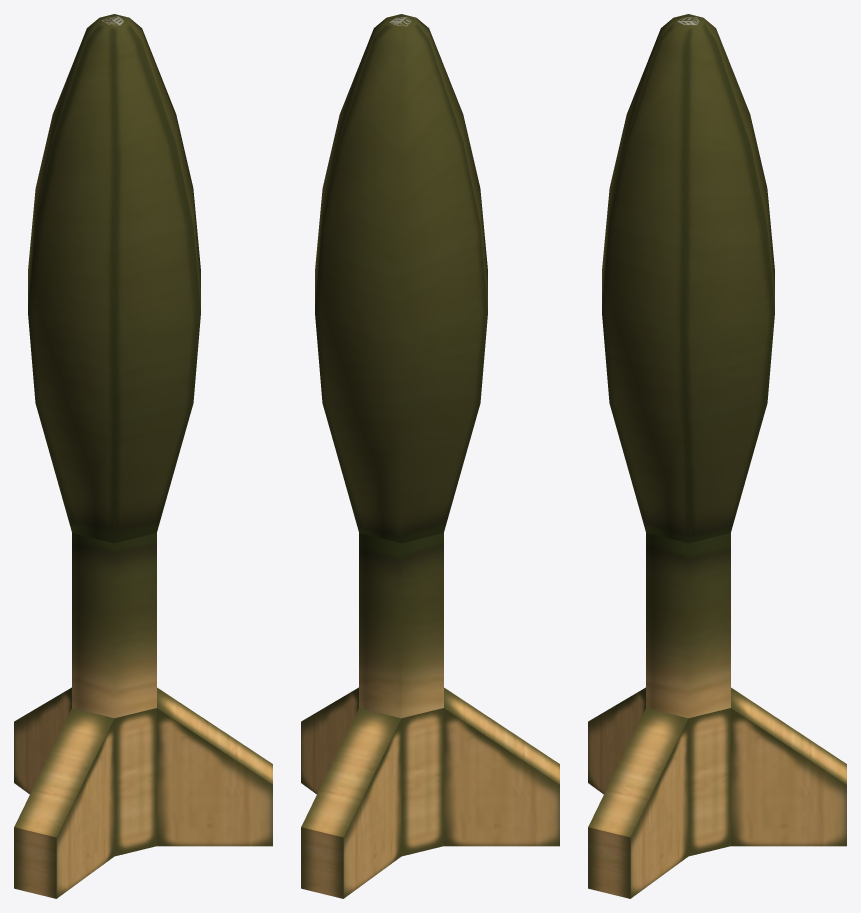
The model's file is MortarShell.fbx.
3 views of the same model, side by side, from view 1: azimuth 30°, elevation 25°; view 2: azimuth 150°, elevation 25°; view 3: azimuth 270°, elevation 25° (orthographic).
Visible parts, largest first — view 1: mortar_shell; view 2: mortar_shell; view 3: mortar_shell.
Boxes of the visible parts, x1,y1,x2,y2 form: mortar_shell: [14, 14, 272, 898]; mortar_shell: [301, 14, 559, 898]; mortar_shell: [588, 14, 846, 898].
Bounding box in the file's own units: 0.4738 × 1.43 × 0.4103.
